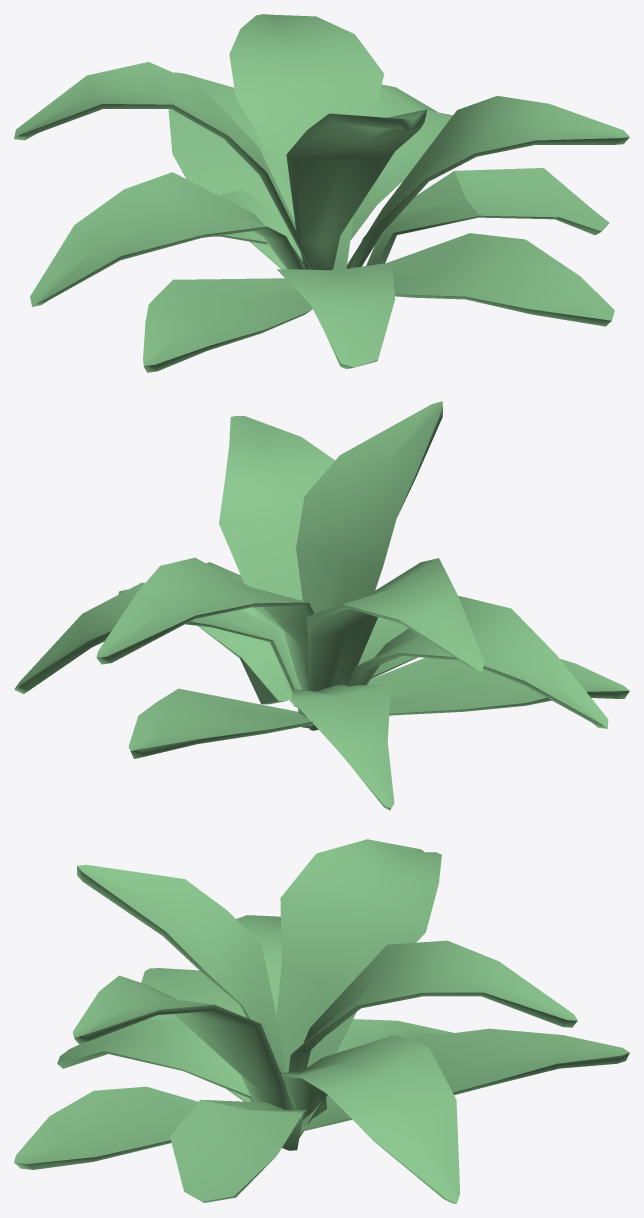
File: Bush 02.glb
3 views of the same model, one above another, from view 1: azimuth 30°, elevation 25°; view 2: azimuth 150°, elevation 25°; view 3: azimuth 270°, elevation 25° (orthographic). The views are drawn at different scales.
Parts seen in each view (by area): view 1: Bush 02; view 2: Bush 02; view 3: Bush 02.
Part boxes in pixels (x1,y1,x2,y2): Bush 02: (14, 14, 629, 372); Bush 02: (14, 401, 629, 810); Bush 02: (14, 839, 629, 1203).
Size of the model in its own units: 4.33 by 2.08 by 4.36.
